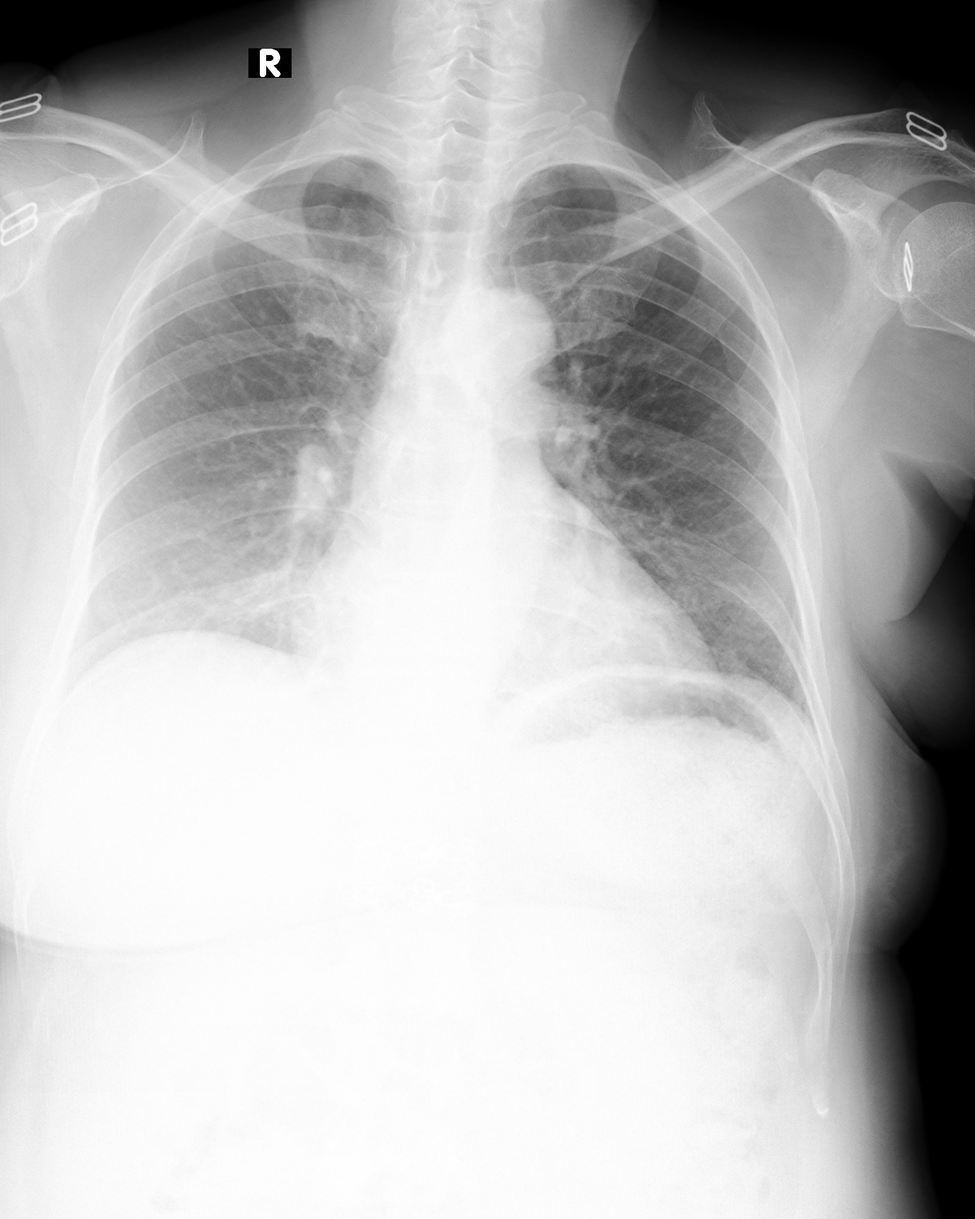Aortic enlargement: (441, 287, 565, 440)
Cardiomegaly: (289, 558, 728, 706)
